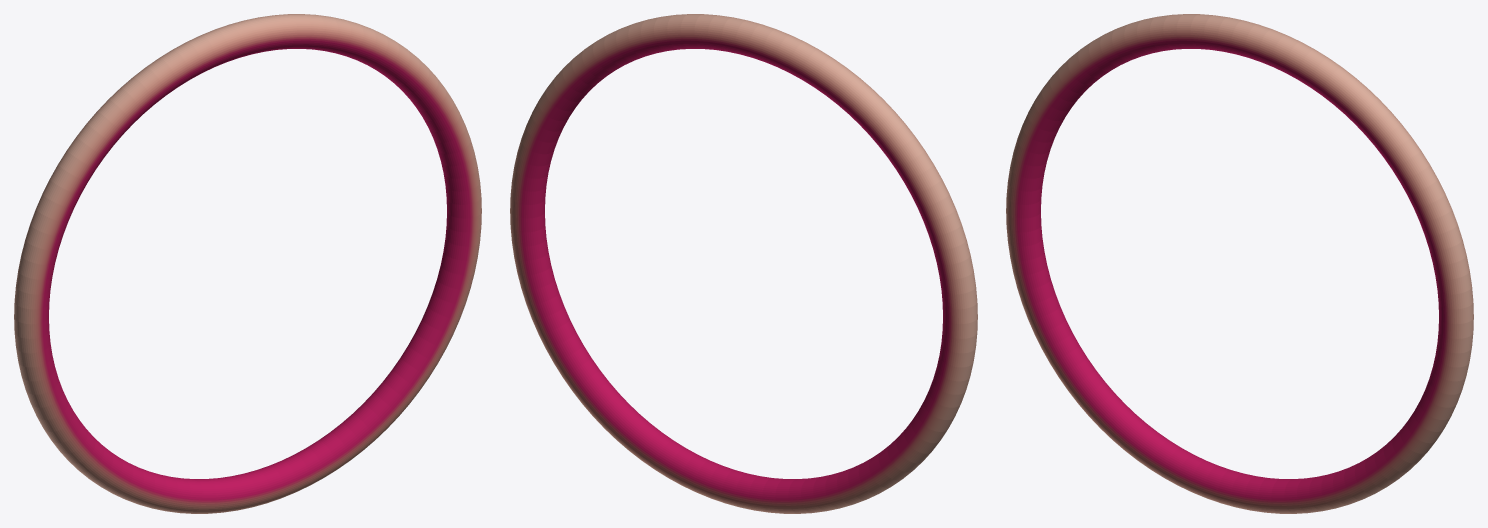
3 views of the same model, side by side, from view 1: azimuth 30°, elevation 25°; view 2: azimuth 150°, elevation 25°; view 3: azimuth 330°, elevation 25° (orthographic).
Parts seen in each view (by area): view 1: world; view 2: world; view 3: world.
Boxes of the visible parts, x1,y1,x2,y2 form: world: [14, 14, 481, 513]; world: [510, 14, 977, 513]; world: [1006, 14, 1473, 513].
Size of the model in its own units: 30.67 by 30.67 by 2.
